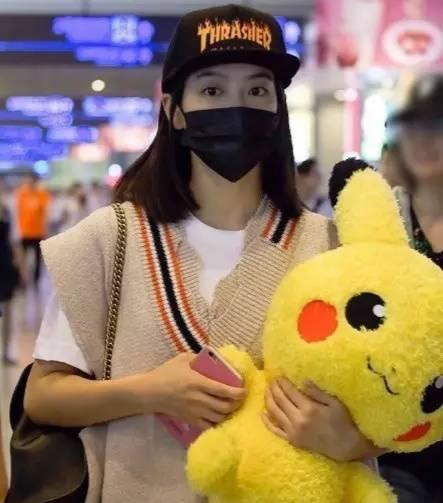face_mask: (185, 59, 274, 178)
